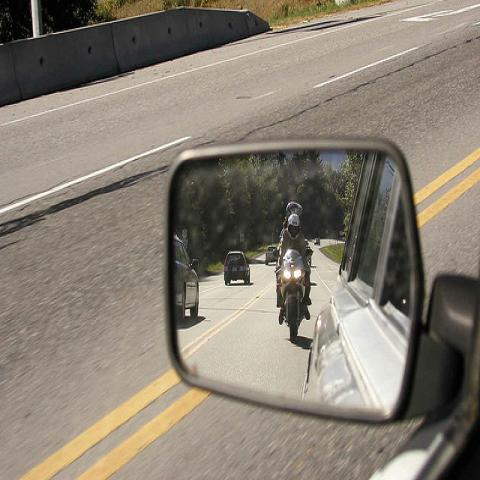car: (171, 239, 200, 320), (223, 252, 250, 285), (265, 245, 279, 266), (304, 238, 309, 246), (315, 238, 320, 245)
motorcycle: (275, 250, 313, 344)
